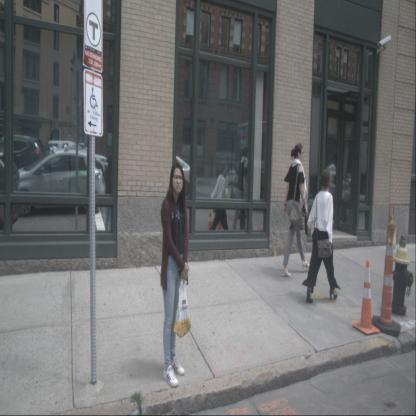cone: (371, 204, 401, 338), (353, 259, 380, 334), (206, 204, 214, 238)
